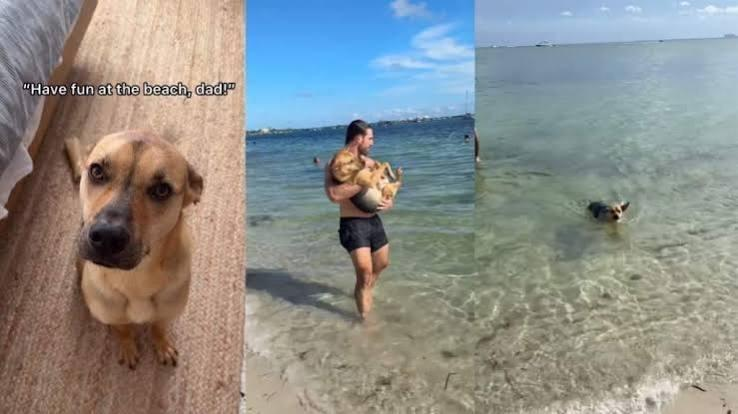adult_dog: (66, 126, 205, 372), (329, 147, 404, 215), (587, 199, 631, 222)
non-dog: (322, 118, 391, 328)
